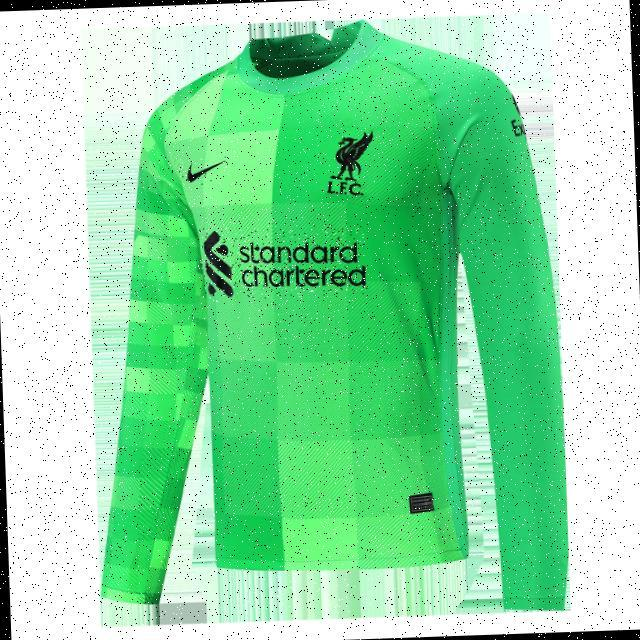Nike: (179, 154, 230, 185)
Standard Chartered: (199, 223, 367, 301)
